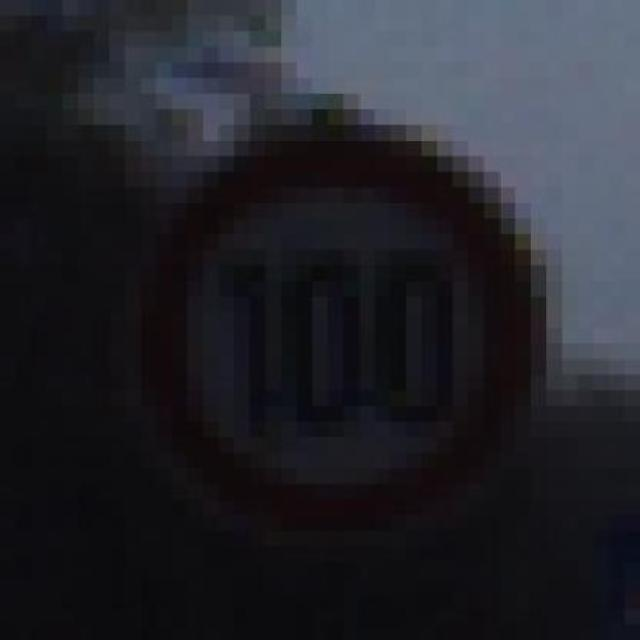forb_speed_over_100: (146, 129, 537, 534)
